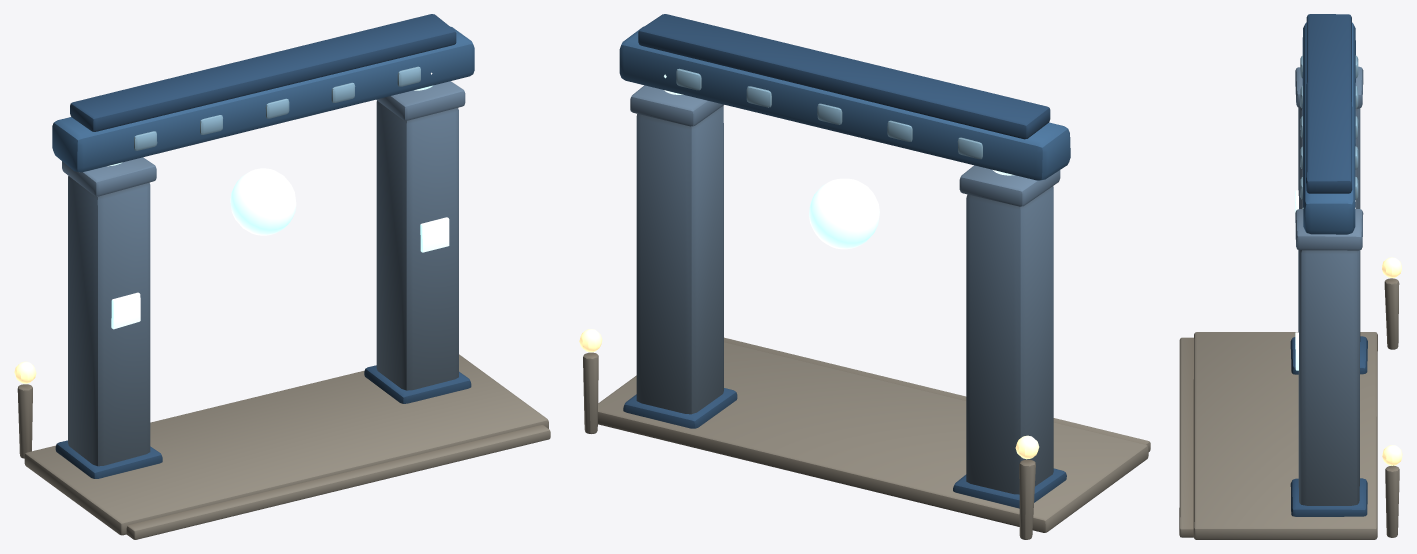
3 renders of one model, left to right at view 1: azimuth 30°, elevation 25°; view 2: azimuth 150°, elevation 25°; view 3: azimuth 270°, elevation 25°, orthographic. The views are drawn at different scales.
Parts seen in each view (by area): view 1: gate_673b1e49; view 2: gate_673b1e49; view 3: gate_673b1e49.
Boxes of the visible parts, x1,y1,x2,y2 form: gate_673b1e49: (14, 14, 550, 539); gate_673b1e49: (579, 14, 1150, 539); gate_673b1e49: (1179, 14, 1402, 539).
Size of the model in its own units: 5.33 by 4.36 by 2.55.
